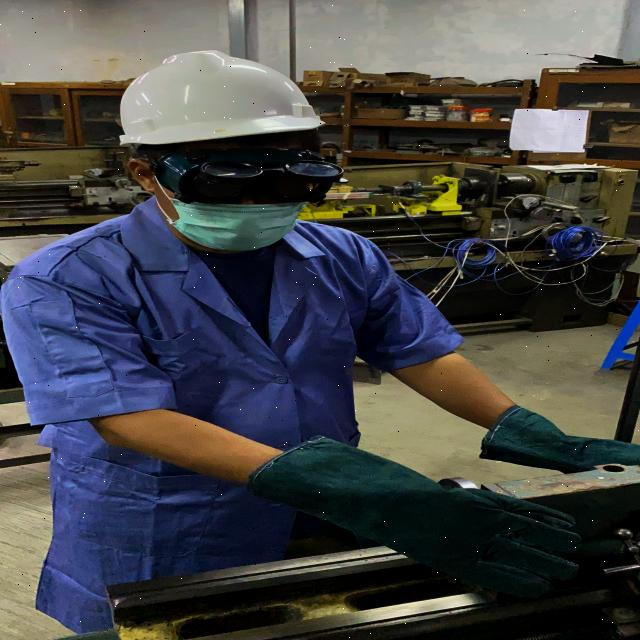Gloves: (245, 437, 581, 598), (481, 405, 640, 472)
Hardhat: (119, 50, 324, 144)
Mask: (171, 198, 308, 252)
No Earmuff: (126, 158, 154, 192)
No Overall Suit: (1, 200, 462, 632)
